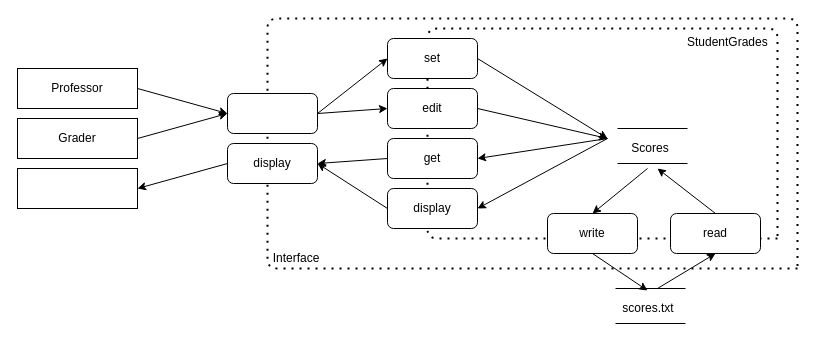
Image size: 817x342. Some labels were removed from this diagram. The centre of each missing label's shape, as x and y in pixels:
"interact" goes at [272,113].
"Student" goes at [77,188].
